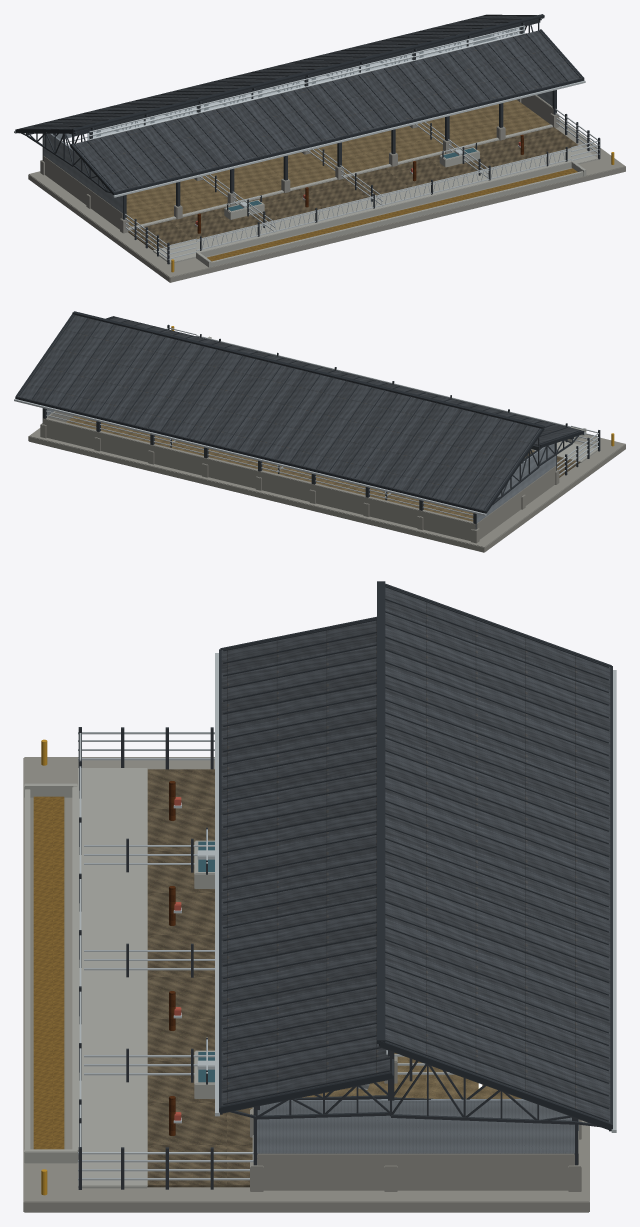
File: barn.glb
3 views of the same model, one above another, from view 1: azimuth 30°, elevation 25°; view 2: azimuth 150°, elevation 25°; view 3: azimuth 270°, elevation 25° (orthographic). The views are drawn at different scales.
Parts seen in each view (by area): view 1: Roof_WeatheredRoof, Body_BarnBedding, Body_RawConcrete, Roof_RoofDarkTrim, Body_DirtyConcrete, Body_PaddockEarth, Body_OxideSteel, Body_WeatheredGalv, Roof_WeatheredGalv, Roof_ClerestoryPoly, Body_FeedLayer, Body_ZincCladding; view 2: Roof_WeatheredRoof, Body_DirtyConcrete, Roof_RoofDarkTrim, Body_BarnBedding, Body_WeatheredGalv, Body_OxideSteel, Roof_WeatheredGalv, Body_ZincCladding, Body_RawConcrete; view 3: Roof_WeatheredRoof, Roof_RoofDarkTrim, Body_DirtyConcrete, Body_RawConcrete, Body_PaddockEarth, Body_ZincCladding, Body_FeedLayer, Body_WeatheredGalv, Body_OxideSteel, Roof_WeatheredGalv, Body_BarnBedding, Body_BunkTrough (+1 smaller).
Part boxes in pixels (x1=…): Roof_WeatheredRoof: x1=22, y1=16, x2=581, y2=192; Body_BarnBedding: x1=126, y1=99, x2=550, y2=227; Body_RawConcrete: x1=128, y1=124, x2=598, y2=267; Roof_RoofDarkTrim: x1=15, y1=14, x2=584, y2=195; Body_DirtyConcrete: x1=28, y1=95, x2=625, y2=282; Body_PaddockEarth: x1=128, y1=127, x2=578, y2=250; Body_OxideSteel: x1=18, y1=18, x2=600, y2=264; Body_WeatheredGalv: x1=46, y1=43, x2=599, y2=259; Roof_WeatheredGalv: x1=14, y1=25, x2=585, y2=197; Roof_ClerestoryPoly: x1=87, y1=26, x2=524, y2=140; Body_FeedLayer: x1=207, y1=168, x2=577, y2=261; Body_ZincCladding: x1=43, y1=35, x2=552, y2=213; Roof_WeatheredRoof: x1=17, y1=315, x2=580, y2=510; Body_DirtyConcrete: x1=28, y1=411, x2=625, y2=552; Roof_RoofDarkTrim: x1=15, y1=311, x2=584, y2=513; Body_BarnBedding: x1=66, y1=416, x2=473, y2=521; Body_WeatheredGalv: x1=46, y1=327, x2=598, y2=519; Body_OxideSteel: x1=42, y1=324, x2=600, y2=529; Roof_WeatheredGalv: x1=14, y1=399, x2=585, y2=515; Body_ZincCladding: x1=47, y1=409, x2=556, y2=522; Body_RawConcrete: x1=208, y1=336, x2=597, y2=462; Roof_WeatheredRoof: x1=221, y1=587, x2=610, y2=1122; Roof_RoofDarkTrim: x1=219, y1=581, x2=612, y2=1131; Body_DirtyConcrete: x1=23, y1=757, x2=589, y2=1212; Body_RawConcrete: x1=24, y1=768, x2=253, y2=1188; Body_PaddockEarth: x1=147, y1=769, x2=252, y2=1187; Body_ZincCladding: x1=257, y1=1099, x2=578, y2=1153; Body_FeedLayer: x1=33, y1=796, x2=64, y2=1149; Body_WeatheredGalv: x1=78, y1=732, x2=454, y2=1180; Body_OxideSteel: x1=78, y1=727, x2=608, y2=1189; Roof_WeatheredGalv: x1=215, y1=653, x2=616, y2=1132; Body_BarnBedding: x1=302, y1=1053, x2=521, y2=1098; Body_BunkTrough: x1=30, y1=797, x2=65, y2=1149.
Size of the model in its own units: 43.8 by 7.98 by 23.88.
Materials: 17 (6 with a texture image).
